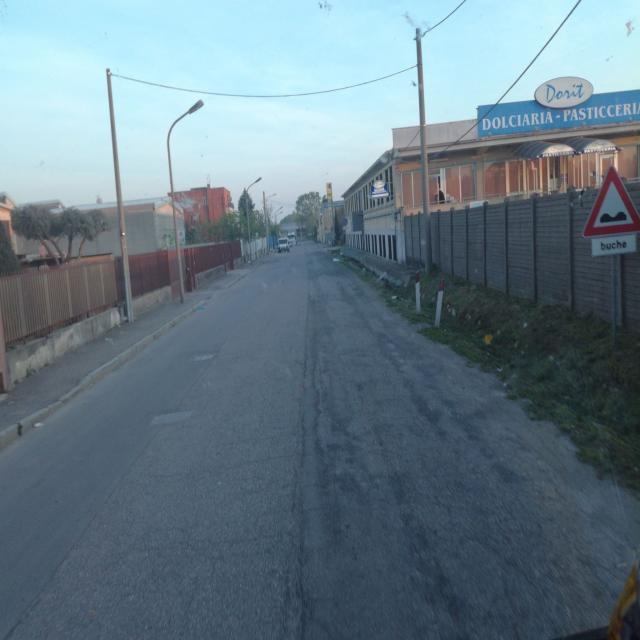forb_stopping: (342, 218, 348, 227)
